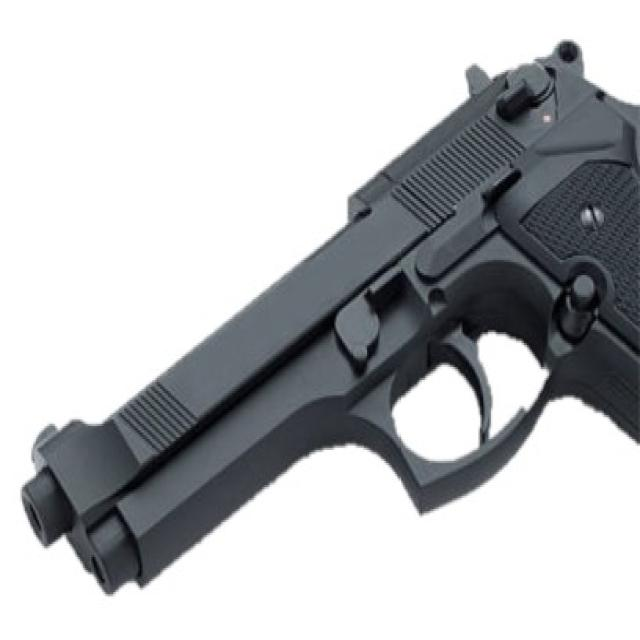pistol: (18, 34, 640, 599)
